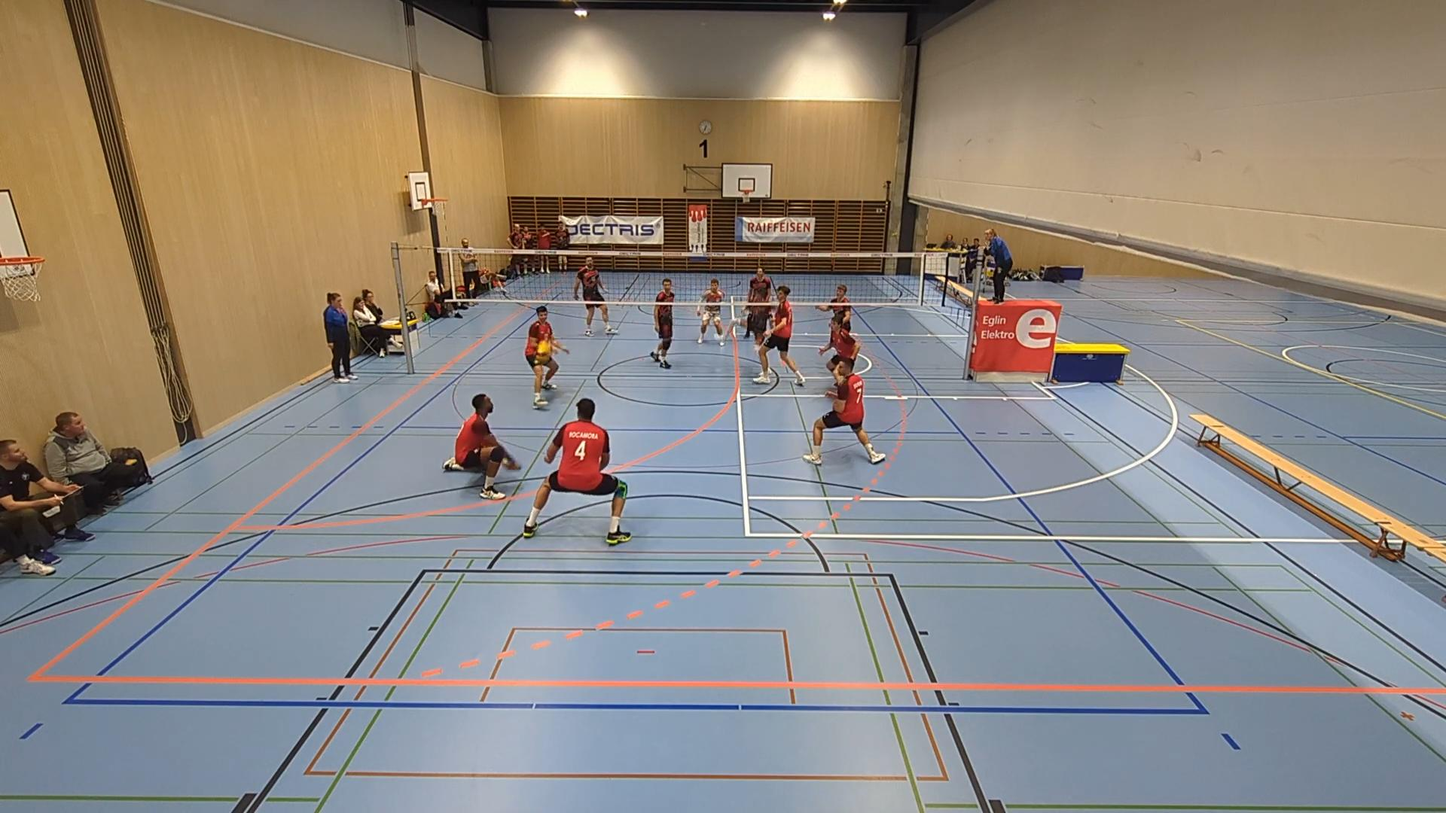difesa: (445, 392, 521, 500)
